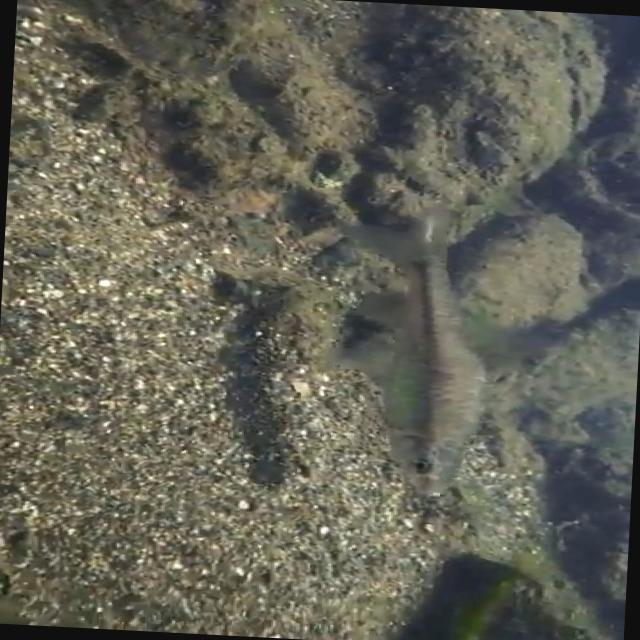Cakil Baligi: (327, 201, 503, 507)
